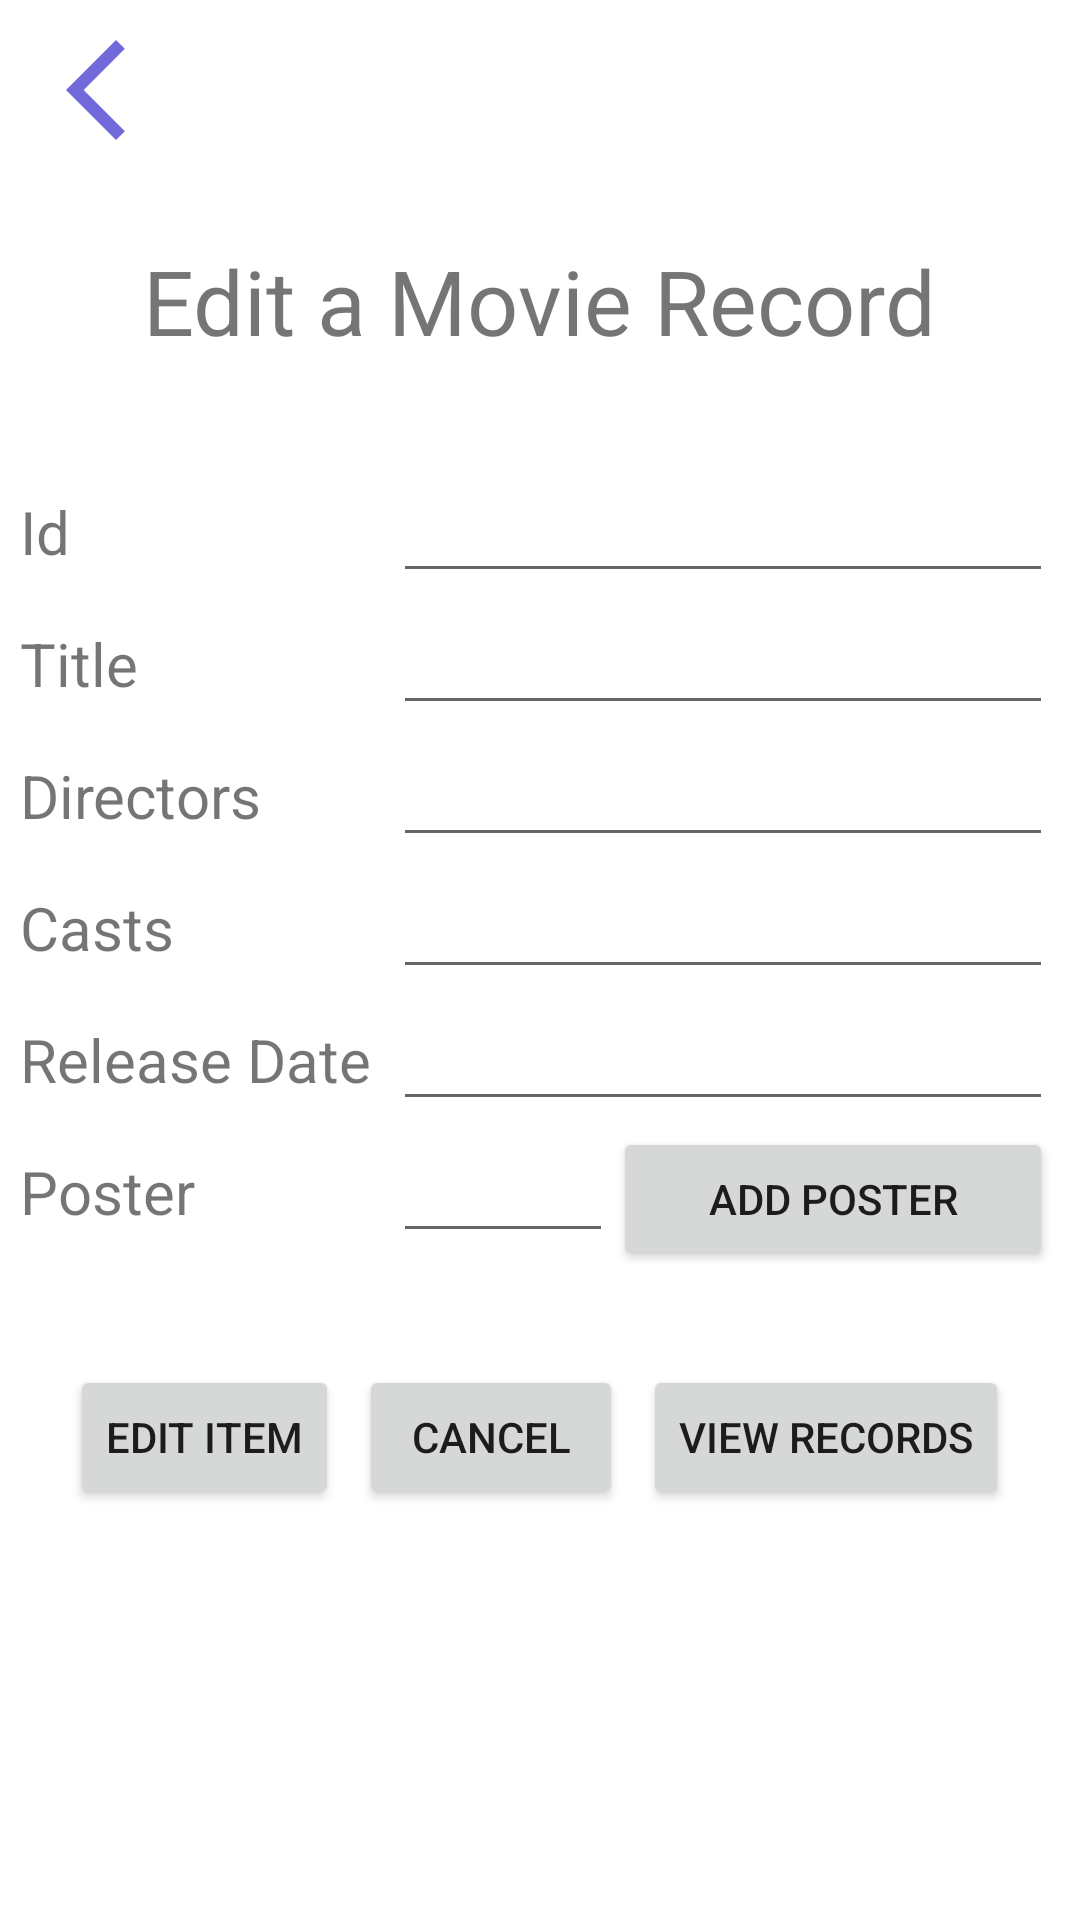

Point at icon controls on the screen. Image size 1080x1920, points as point (x, y).
arrow back: point (95, 90)
